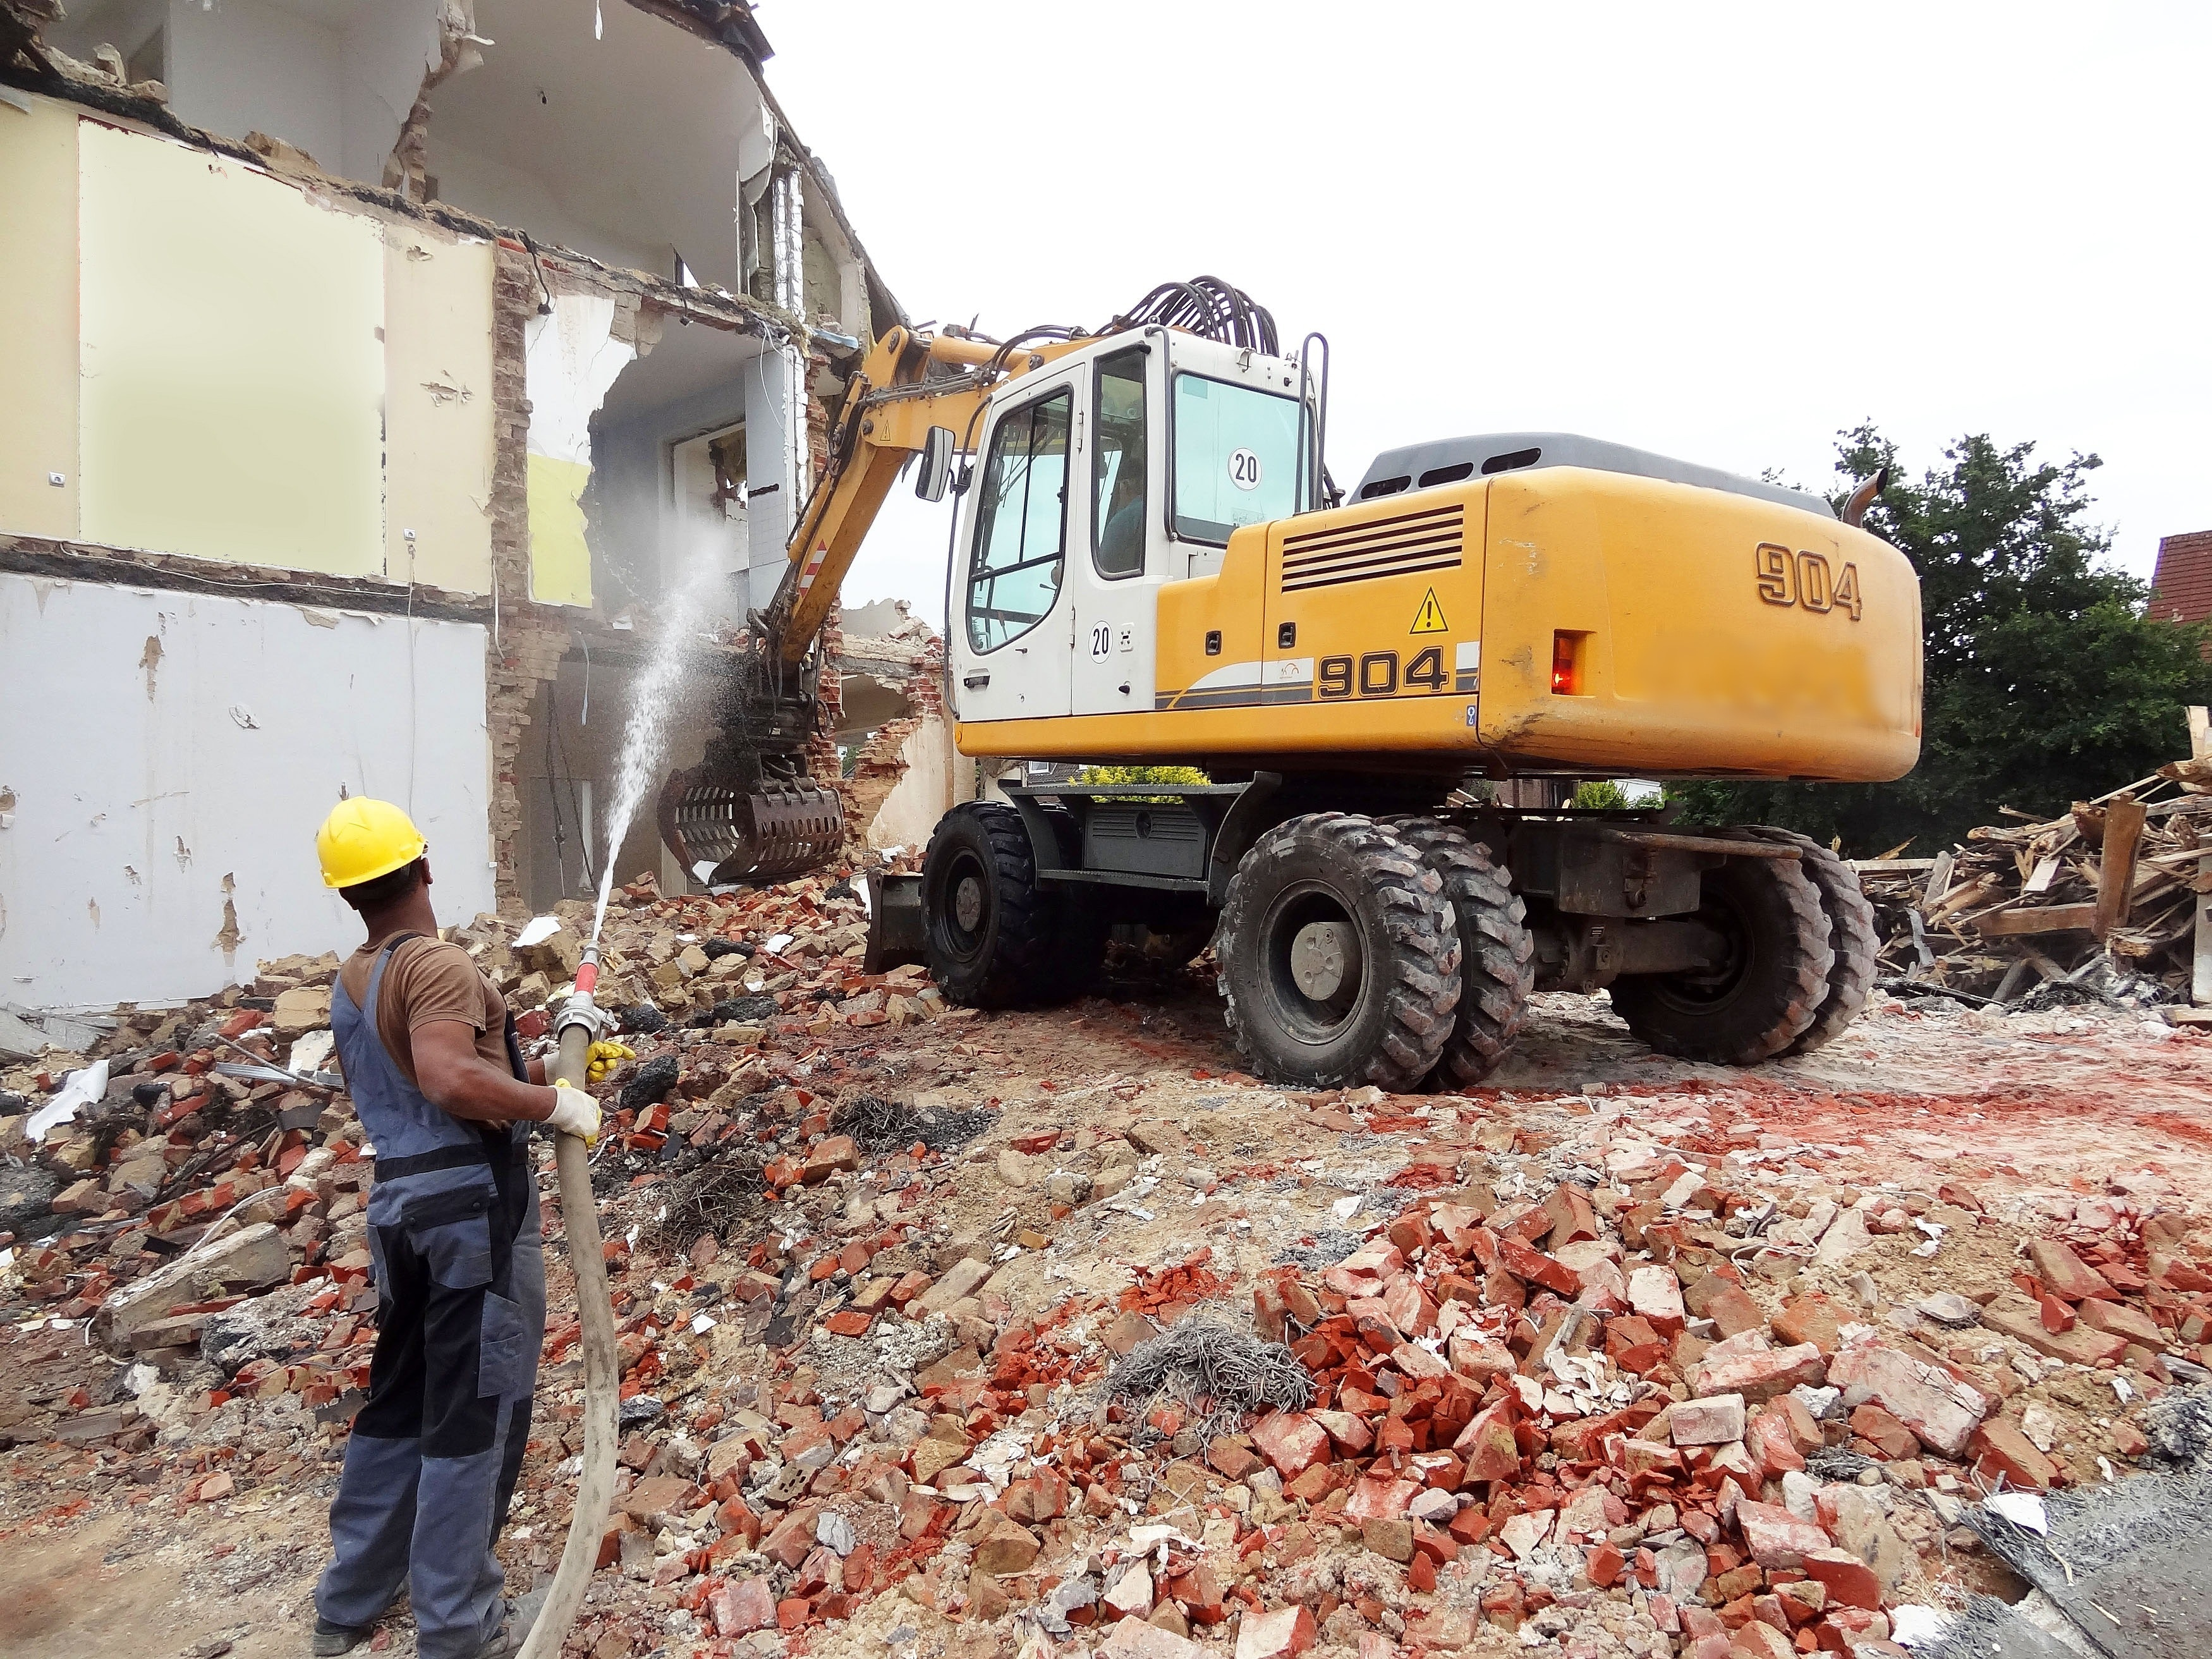yellow: (310, 782, 437, 924)
